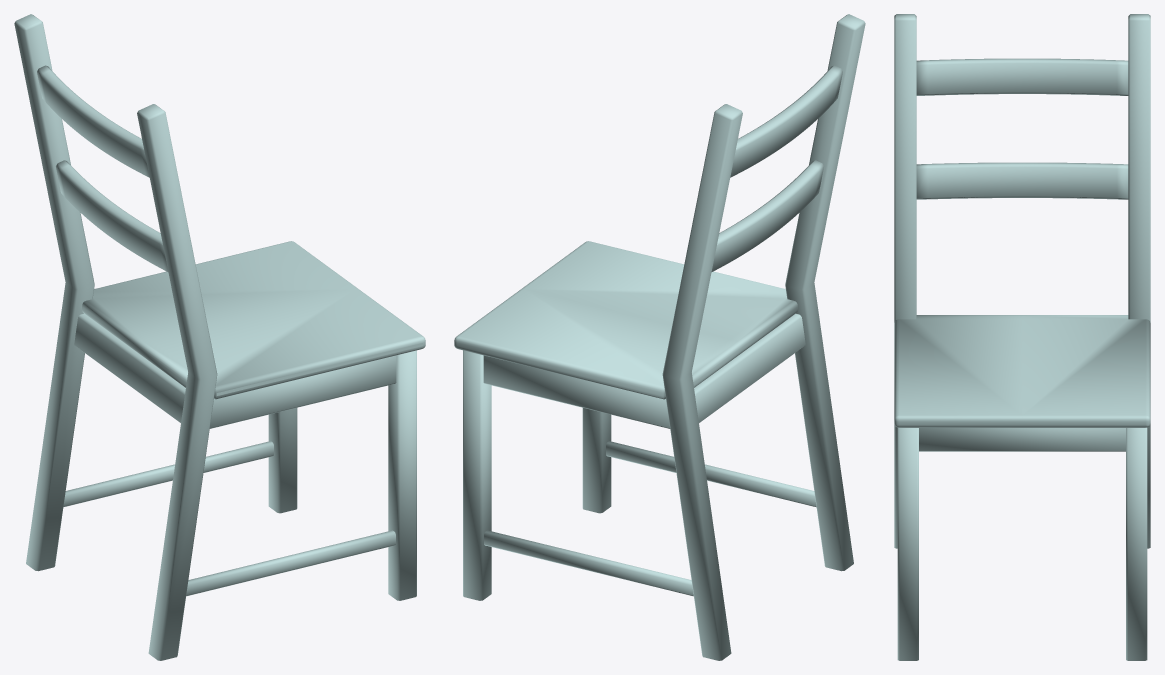
The model's file is Chair.fbx.
3 renders of one model, left to right at view 1: azimuth 30°, elevation 25°; view 2: azimuth 150°, elevation 25°; view 3: azimuth 270°, elevation 25°, orthographic. The views are drawn at different scales.
Parts seen in each view (by area): view 1: Legs, Cover; view 2: Legs, Cover; view 3: Legs, Cover.
Boxes of the visible parts, box(x1,y1,x2,y2) form: Legs: box(14, 14, 416, 660); Cover: box(82, 241, 425, 399); Legs: box(463, 14, 865, 660); Cover: box(454, 241, 797, 399); Legs: box(894, 14, 1150, 660); Cover: box(894, 315, 1150, 427).
Bounding box in the file's own units: 8.93 × 16.72 × 7.42.
